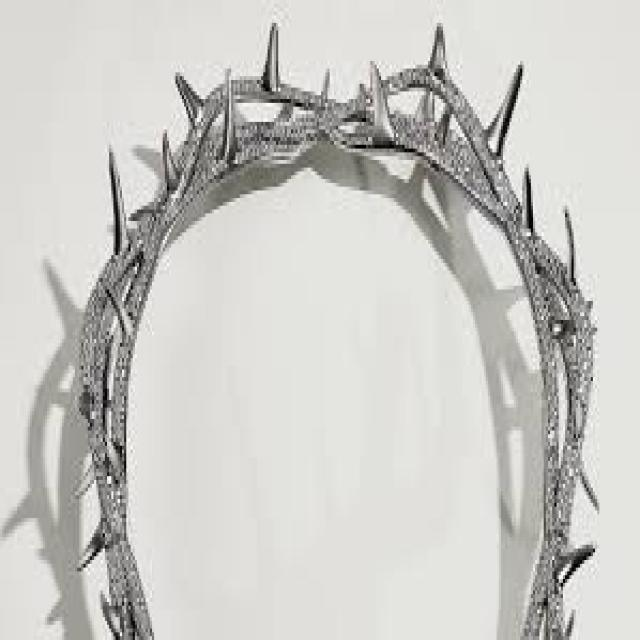crown: (70, 29, 611, 640)
